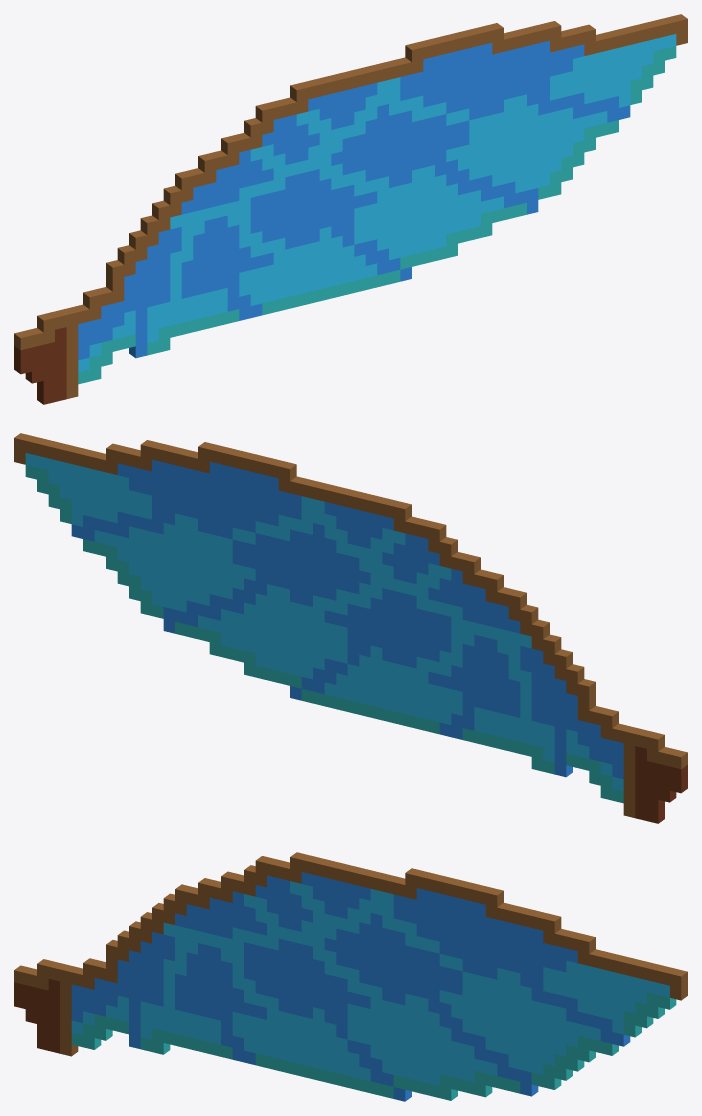
Rendered from mst_beewing.fbx.
3 renders of one model, top to bottom at view 1: azimuth 30°, elevation 25°; view 2: azimuth 150°, elevation 25°; view 3: azimuth 330°, elevation 25°, orthographic.
Visible parts, largest first — view 1: mst_bee; view 2: mst_bee; view 3: mst_bee.
Part boxes in pixels (x1,y1,x2,y2): mst_bee: (14, 14, 687, 404); mst_bee: (14, 433, 687, 823); mst_bee: (14, 852, 687, 1101).
Size of the model in its own units: 58 by 22 by 1.
